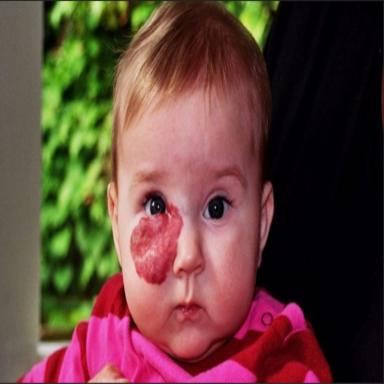Hemangiome: (131, 204, 183, 284)
